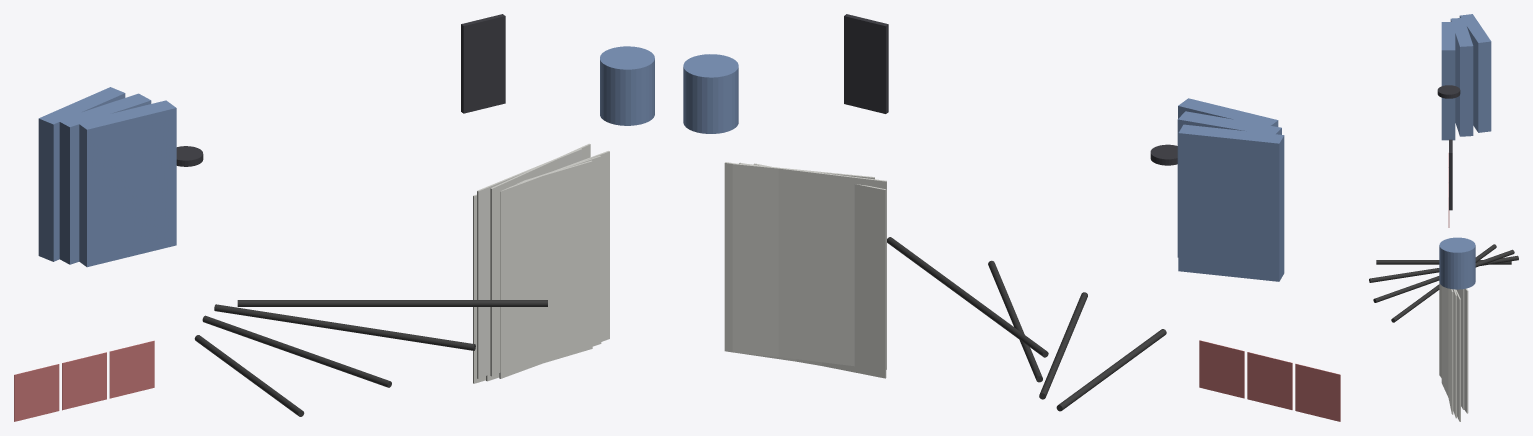
File: SK_Desk_01_Cluttered.fbx
3 renders of one model, left to right at view 1: azimuth 30°, elevation 25°; view 2: azimuth 150°, elevation 25°; view 3: azimuth 270°, elevation 25°, orthographic. The views are drawn at different scales.
Visible parts, largest first — view 1: Cluttered_Book_0, Cluttered_Paper_0, Cluttered_Paper_2, Cluttered_Mug2, Cluttered_Book_2, Cluttered_Phone, Cluttered_Book_1, Cluttered_Paper_4, Cluttered_Paper_3, Cluttered_Paper_1, Cluttered_StickyNote_0, Cluttered_StickyNote_2 (+5 smaller); view 2: Cluttered_Book_2, Cluttered_Paper_3, Cluttered_Paper_4, Cluttered_Paper_0, Cluttered_Mug2, Cluttered_Phone, Cluttered_StickyNote_0, Cluttered_StickyNote_2, Cluttered_StickyNote_1, Cluttered_Paper_2, Cluttered_Cable_3, Cluttered_Book_1 (+4 smaller); view 3: Cluttered_Book_2, Cluttered_Book_1, Cluttered_Mug2, Cluttered_Book_0, Cluttered_Paper_2, Cluttered_Paper_4, Cluttered_Paper_0, Cluttered_Cable_2, Cluttered_Cable_1, Cluttered_Paper_3, Cluttered_Paper_1, Cluttered_Cable_3 (+3 smaller).
Part boxes in pixels (bbox=[...]): Cluttered_Book_0: bbox=[77, 100, 176, 267]; Cluttered_Paper_0: bbox=[473, 160, 592, 383]; Cluttered_Paper_2: bbox=[499, 151, 609, 378]; Cluttered_Mug2: bbox=[600, 46, 654, 125]; Cluttered_Book_2: bbox=[38, 87, 125, 261]; Cluttered_Phone: bbox=[461, 14, 505, 113]; Cluttered_Book_1: bbox=[58, 93, 151, 264]; Cluttered_Paper_4: bbox=[490, 143, 590, 376]; Cluttered_Paper_3: bbox=[477, 148, 582, 378]; Cluttered_Paper_1: bbox=[486, 155, 601, 381]; Cluttered_StickyNote_0: bbox=[14, 364, 59, 421]; Cluttered_StickyNote_2: bbox=[109, 340, 154, 398]; Cluttered_Book_2: bbox=[1178, 124, 1284, 281]; Cluttered_Paper_3: bbox=[747, 164, 886, 369]; Cluttered_Paper_4: bbox=[732, 163, 874, 356]; Cluttered_Paper_0: bbox=[753, 163, 886, 378]; Cluttered_Mug2: bbox=[683, 54, 738, 133]; Cluttered_Phone: bbox=[844, 14, 888, 113]; Cluttered_StickyNote_0: bbox=[1295, 363, 1340, 421]; Cluttered_StickyNote_2: bbox=[1199, 340, 1244, 398]; Cluttered_StickyNote_1: bbox=[1247, 352, 1292, 409]; Cluttered_Paper_2: bbox=[724, 162, 795, 361]; Cluttered_Cable_3: bbox=[887, 237, 1048, 357]; Cluttered_Book_1: bbox=[1177, 111, 1281, 257]; Cluttered_Book_2: bbox=[1459, 14, 1491, 132]; Cluttered_Book_1: bbox=[1450, 18, 1473, 136]; Cluttered_Mug2: bbox=[1439, 237, 1475, 289]; Cluttered_Book_0: bbox=[1441, 22, 1455, 140]; Cluttered_Paper_2: bbox=[1441, 286, 1460, 421]; Cluttered_Paper_4: bbox=[1439, 282, 1468, 413]; Cluttered_Paper_0: bbox=[1448, 288, 1453, 414]; Cluttered_Cable_2: bbox=[1373, 249, 1514, 302]; Cluttered_Cable_1: bbox=[1369, 255, 1518, 282]; Cluttered_Paper_3: bbox=[1458, 289, 1464, 409]; Cluttered_Paper_1: bbox=[1453, 289, 1456, 418]; Cluttered_Cable_3: bbox=[1391, 244, 1496, 322].
Bounding box in the file's own units: 108 × 57 × 33.23.
